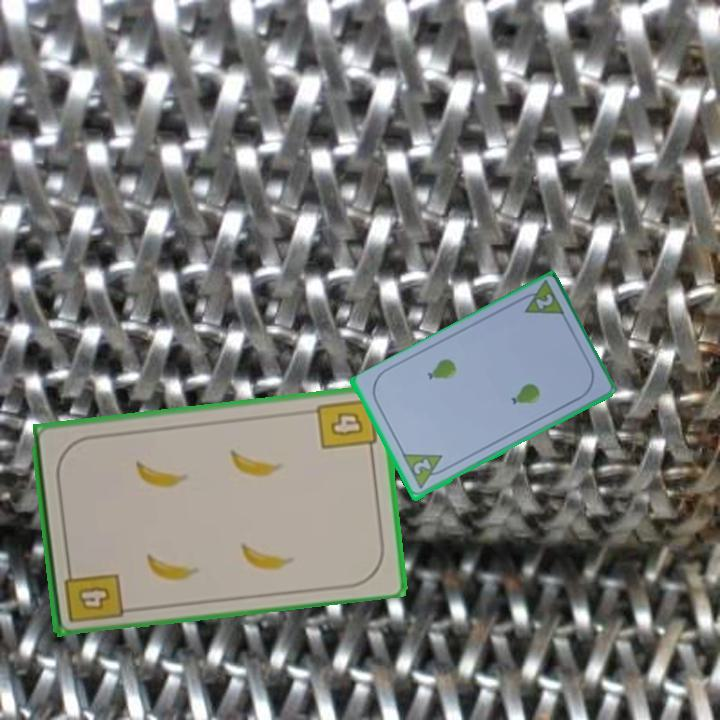2p: (399, 450, 451, 493), (532, 290, 556, 313)
4b: (60, 560, 125, 626), (313, 394, 379, 458)
